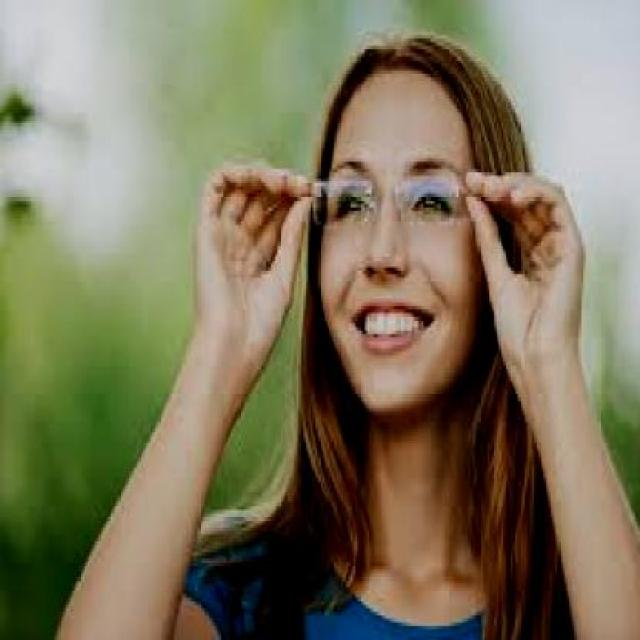glasses: (307, 162, 474, 236)
